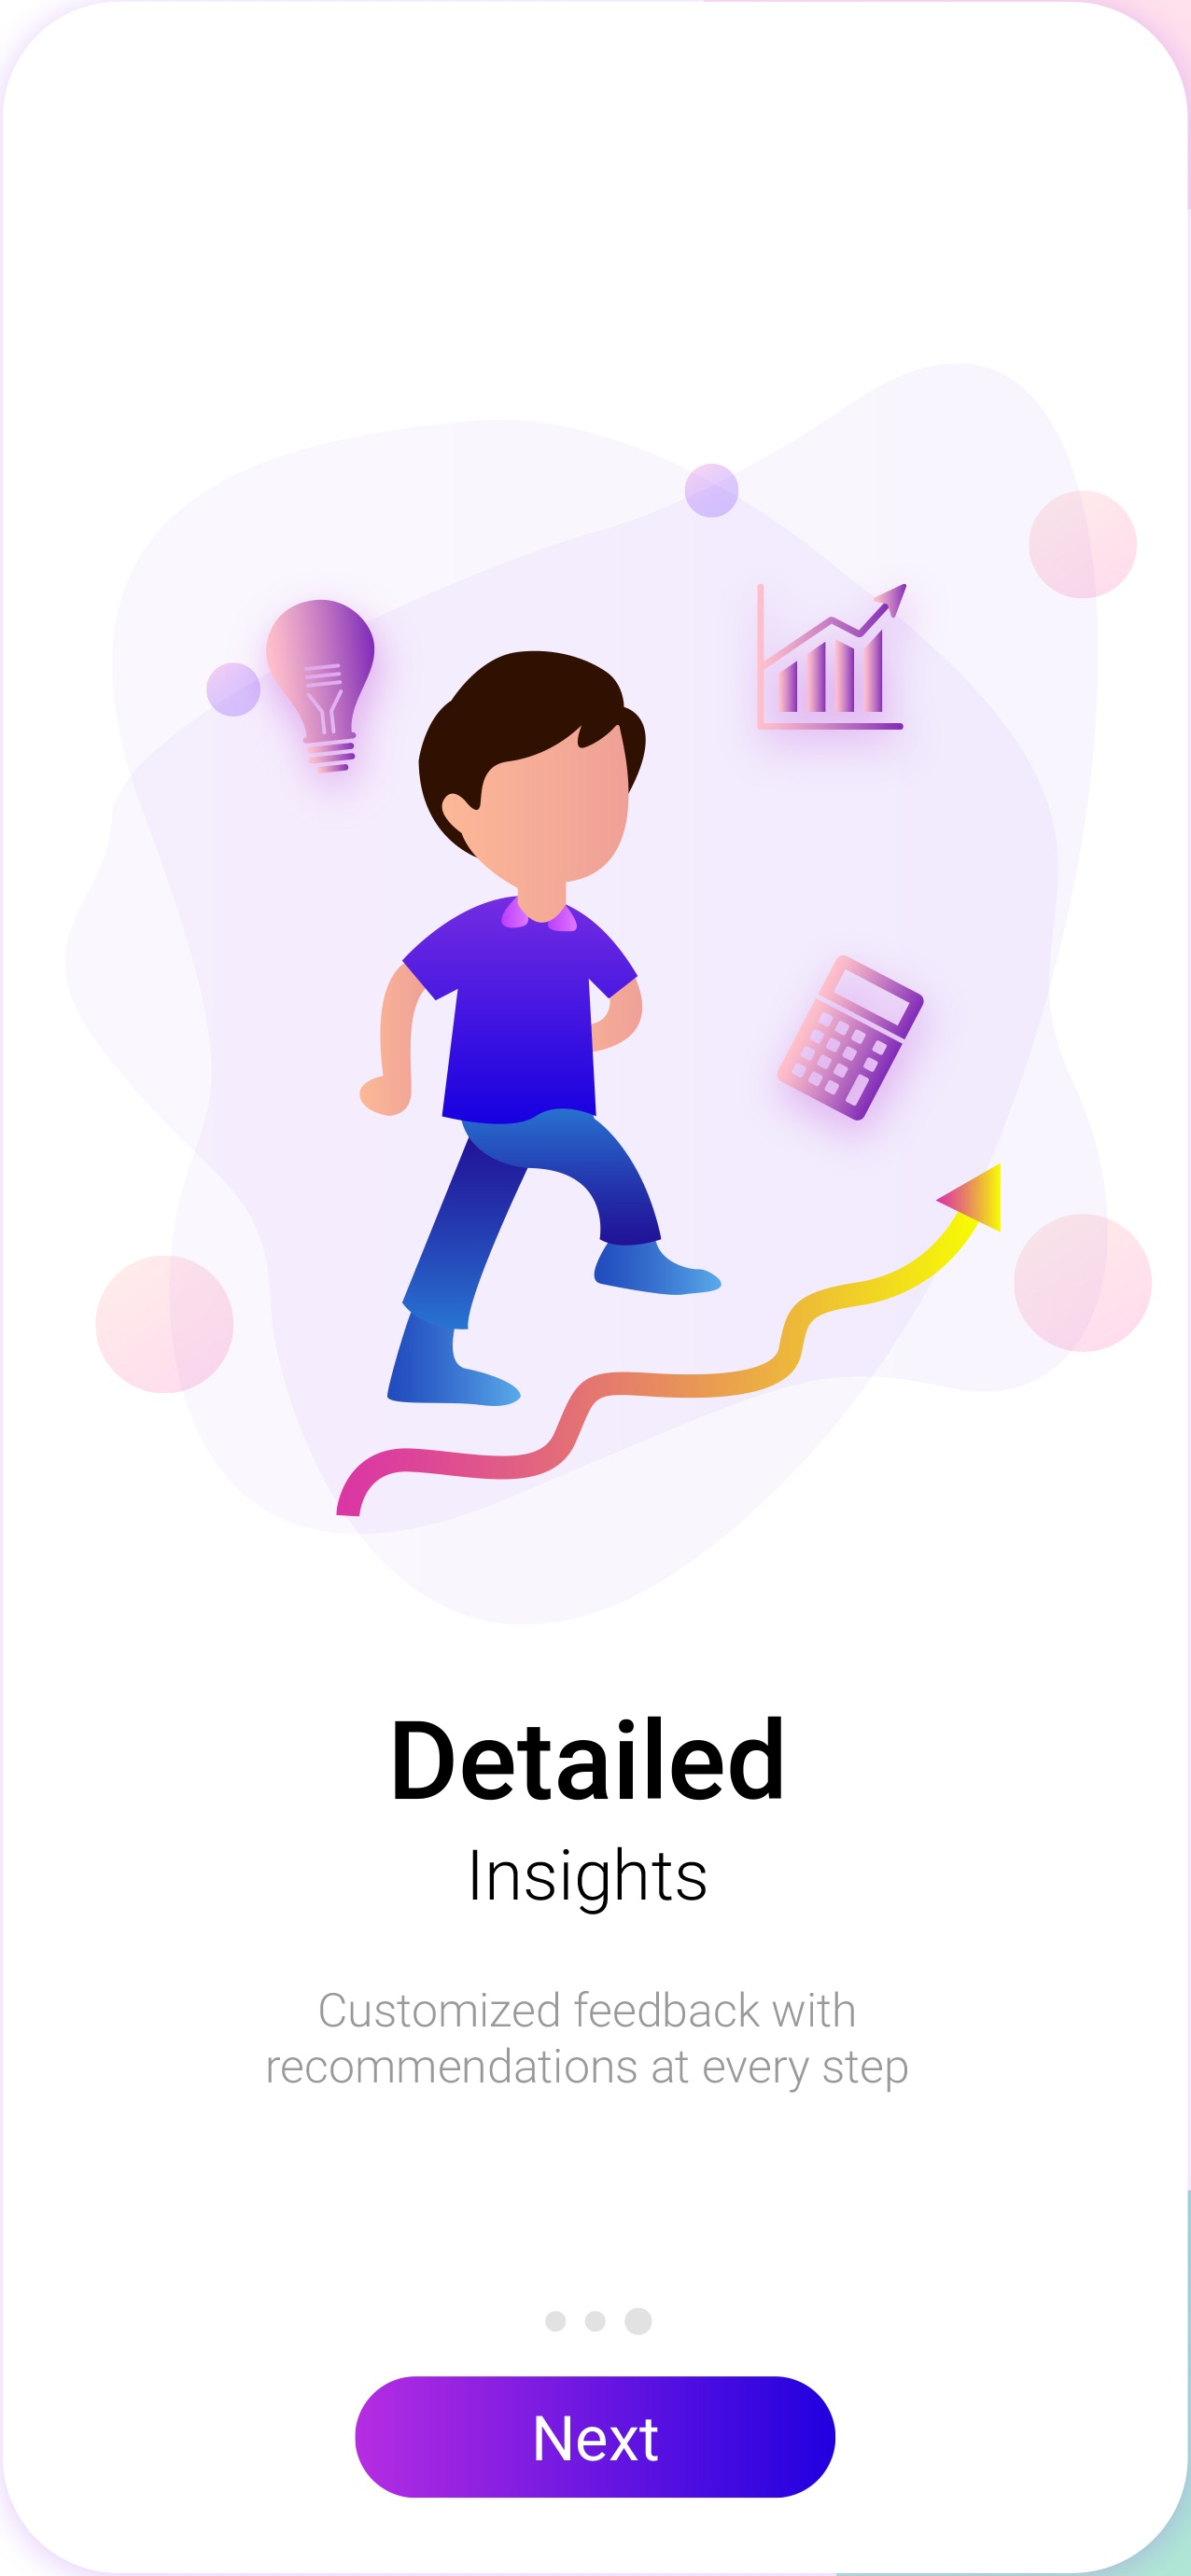Image: (64, 360, 1153, 1628)
PageIndicator: (544, 2307, 654, 2336)
Text: (268, 1989, 908, 2093), (394, 1715, 782, 1801), (471, 1845, 706, 1916)
TextButton: (355, 2376, 836, 2499)
